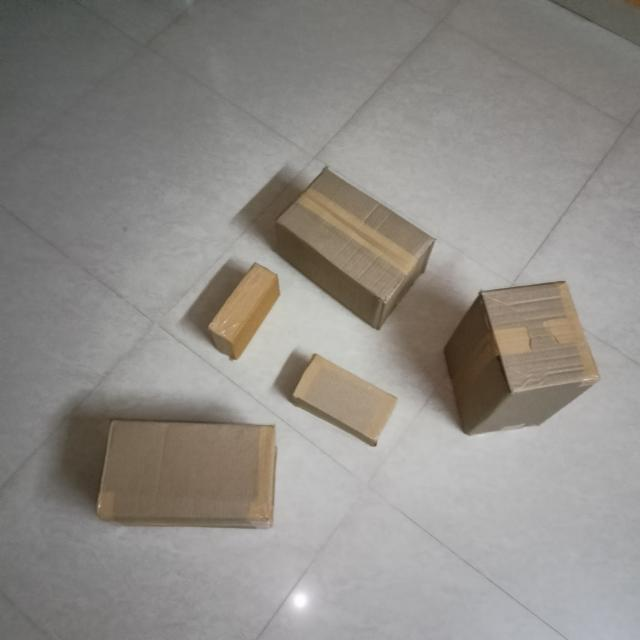box: (282, 169, 434, 305), (97, 419, 278, 520), (483, 279, 600, 391), (295, 356, 400, 442), (213, 265, 280, 343)
